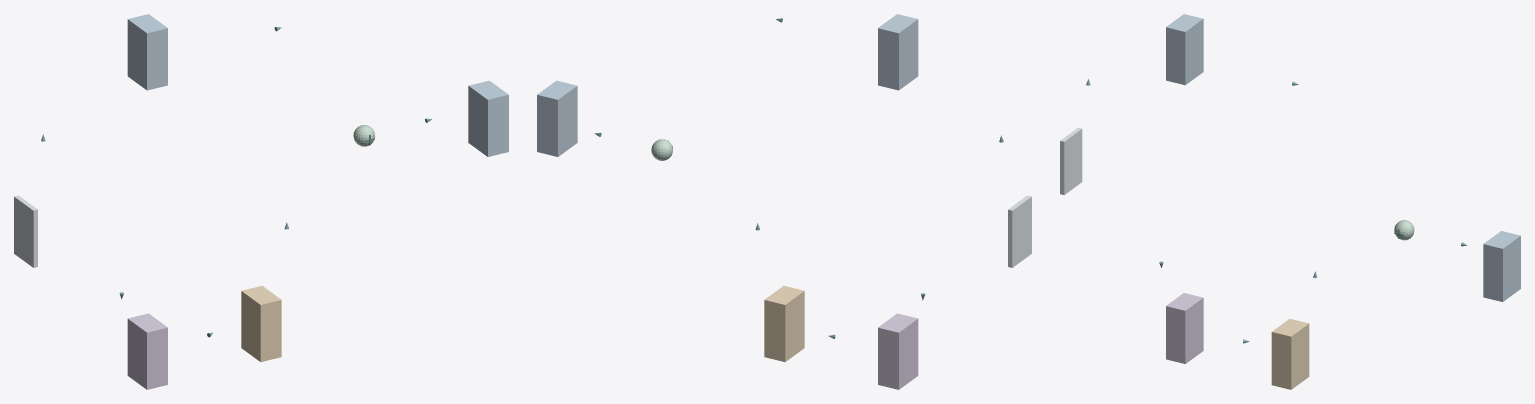
File: global-local-attention.glb
3 renders of one model, left to right at view 1: azimuth 30°, elevation 25°; view 2: azimuth 150°, elevation 25°; view 3: azimuth 330°, elevation 25°, orthographic. The views are drawn at different scales.
Parts seen in each view (by area): view 1: 1×1 +3×3 · local features, Window attention, Cross-shaped · context pooling, Separable · projection, Features; view 2: 1×1 +3×3 · local features, Window attention, Cross-shaped · context pooling, Separable · projection, Features; view 3: Cross-shaped · context pooling, 1×1 +3×3 · local features, Separable · projection, Window attention, Features.
Boxes of the visible parts, bbox=[...] form: 1×1 +3×3 · local features: bbox=[127, 14, 167, 90]; Window attention: bbox=[127, 313, 167, 389]; Cross-shaped · context pooling: bbox=[241, 285, 281, 361]; Separable · projection: bbox=[468, 80, 508, 156]; Features: bbox=[14, 195, 37, 267]; 1×1 +3×3 · local features: bbox=[878, 14, 918, 90]; Window attention: bbox=[878, 313, 918, 389]; Cross-shaped · context pooling: bbox=[764, 285, 804, 361]; Separable · projection: bbox=[537, 80, 577, 156]; Features: bbox=[1008, 195, 1031, 267]; Cross-shaped · context pooling: bbox=[1271, 319, 1309, 389]; 1×1 +3×3 · local features: bbox=[1166, 14, 1203, 85]; Separable · projection: bbox=[1483, 231, 1520, 301]; Window attention: bbox=[1166, 293, 1203, 363]; Features: bbox=[1060, 127, 1082, 194].
Bounding box in the file's own units: 22.6 × 16.2 × 2.05.
